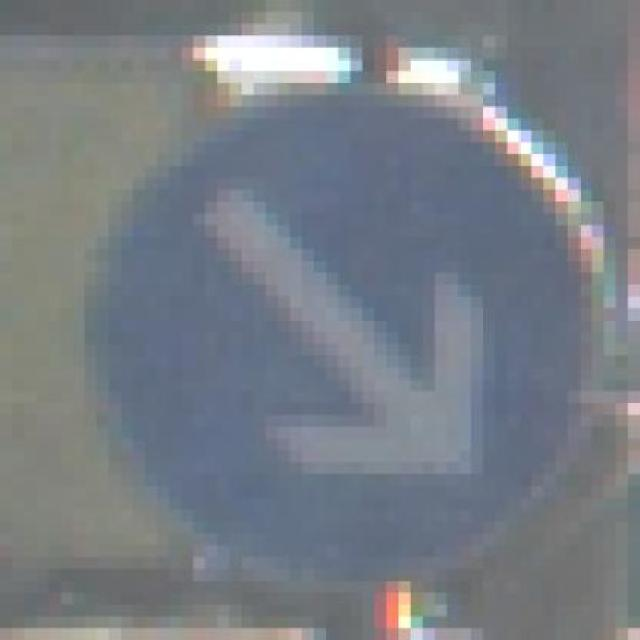Keep-Right: (49, 48, 616, 604)
